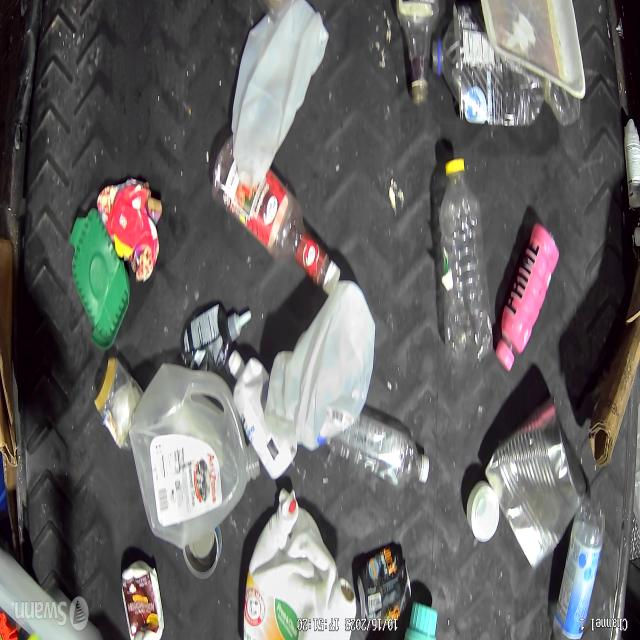can: (484, 394, 586, 573), (355, 541, 411, 628)
milk_jug: (128, 362, 262, 552), (264, 279, 376, 452), (230, 0, 330, 186)
non_white_jug: (243, 487, 357, 640)
plastic_bottle: (212, 136, 341, 294), (432, 7, 581, 126), (438, 157, 493, 362), (495, 222, 560, 374), (316, 403, 429, 490), (552, 500, 605, 640), (394, 0, 440, 106), (94, 357, 144, 453)
